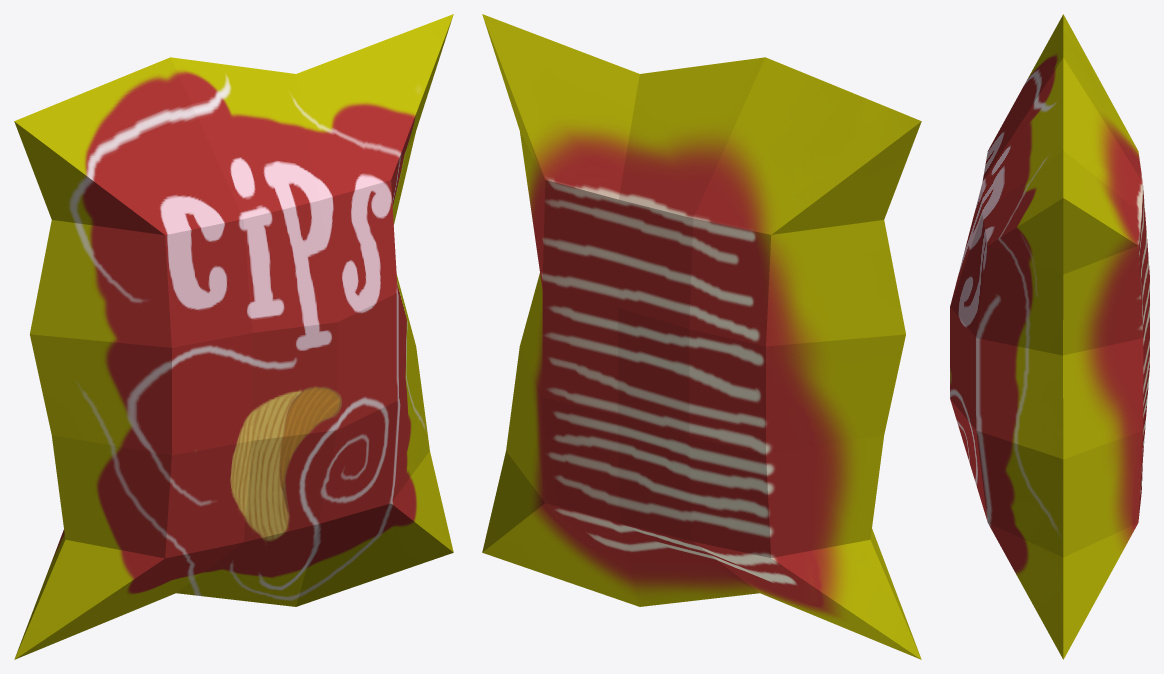
The model's file is CipsPaketi.fbx.
3 renders of one model, left to right at view 1: azimuth 30°, elevation 25°; view 2: azimuth 150°, elevation 25°; view 3: azimuth 270°, elevation 25°, orthographic. The views are drawn at different scales.
Visible parts, largest first — view 1: Cube; view 2: Cube; view 3: Cube.
Part boxes in pixels (x1,y1,x2,y2): Cube: (14, 14, 453, 659); Cube: (482, 14, 921, 659); Cube: (950, 14, 1149, 659).
Bounding box in the file's own units: 281 × 354 × 129.
